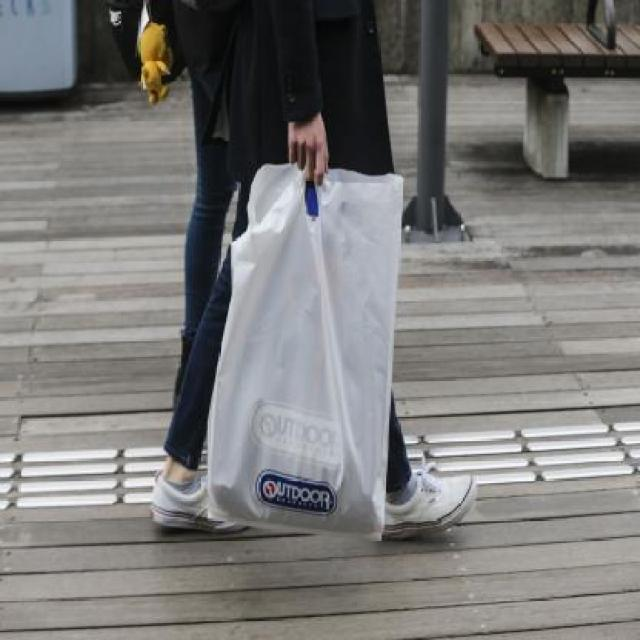plastic bag: (186, 146, 416, 554)
